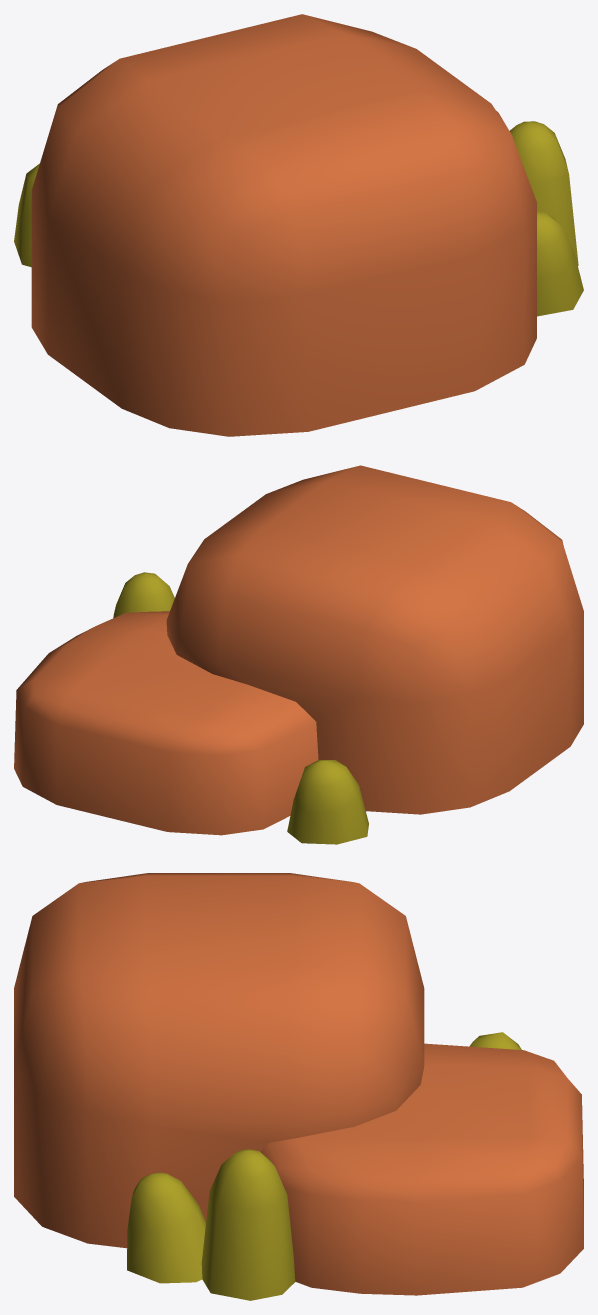
Rendered from rocks_3.obj.
The picture shows the model from 3 angles, top to bottom: view 1: azimuth 30°, elevation 25°; view 2: azimuth 150°, elevation 25°; view 3: azimuth 270°, elevation 25°; orthographic projection. The views are drawn at different scales.
Parts seen in each view (by area): view 1: rocks_3; view 2: rocks_3; view 3: rocks_3.
Part boxes in pixels (x1,y1,x2,y2): rocks_3: (14, 14, 583, 436); rocks_3: (14, 465, 583, 844); rocks_3: (14, 873, 583, 1300).
Size of the model in its own units: 1.45 by 0.6802 by 1.48.
